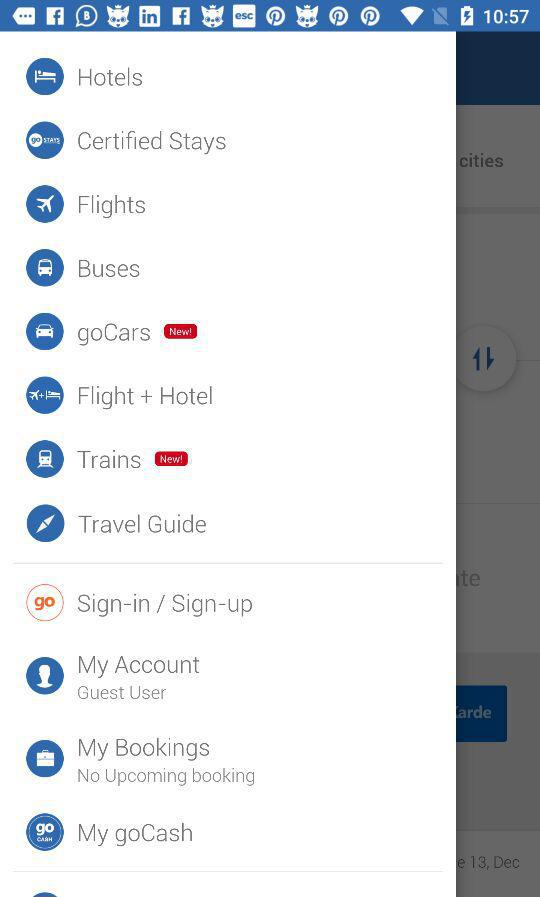Drawer: (1, 33, 457, 897)
Icon: (26, 656, 65, 696)
Image: (26, 812, 66, 852), (26, 312, 65, 352), (26, 739, 66, 778), (26, 440, 66, 479), (27, 504, 66, 543), (26, 376, 65, 415), (26, 249, 65, 288), (26, 185, 65, 224), (26, 122, 65, 161), (26, 58, 65, 97), (26, 584, 66, 622)
Text: (78, 592, 254, 619), (78, 130, 227, 156), (78, 767, 256, 787), (79, 385, 214, 411), (79, 737, 211, 762), (78, 821, 194, 848), (79, 655, 201, 679), (78, 513, 208, 535), (78, 323, 152, 347), (79, 195, 147, 220), (78, 685, 168, 701), (79, 67, 144, 88), (77, 450, 142, 470), (79, 259, 141, 279)
TextButton: (154, 451, 189, 467), (164, 324, 199, 340)
UpperTaskBar: (1, 1, 540, 33)
